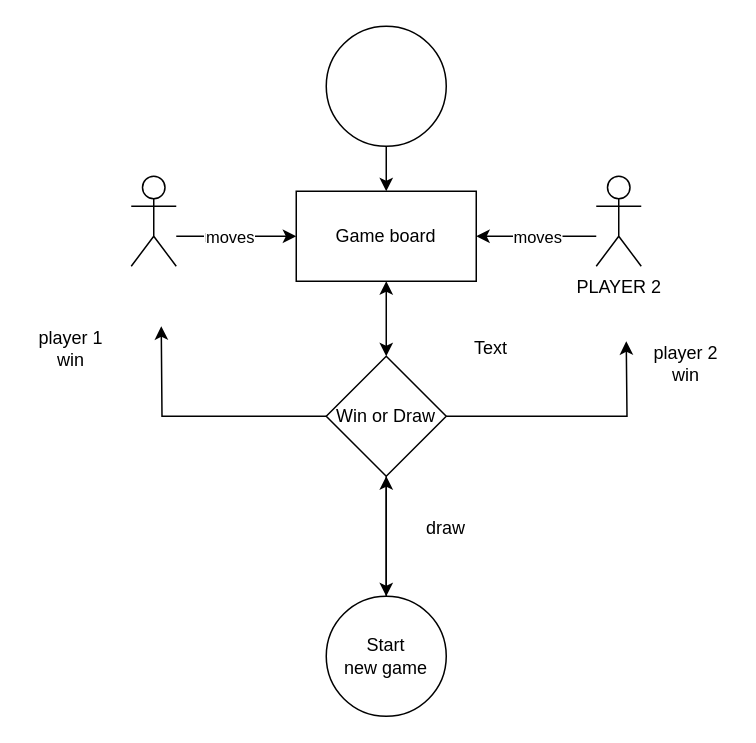
The diagram is 756 pixels wide and 743 high, and some of its shapes have lost their labels. The shapes that lost their labels are listed below. From the top down, each one's centre as x and y in pixels, then its label:
(385,85): START GAME
(153,220): PLAYER 1
